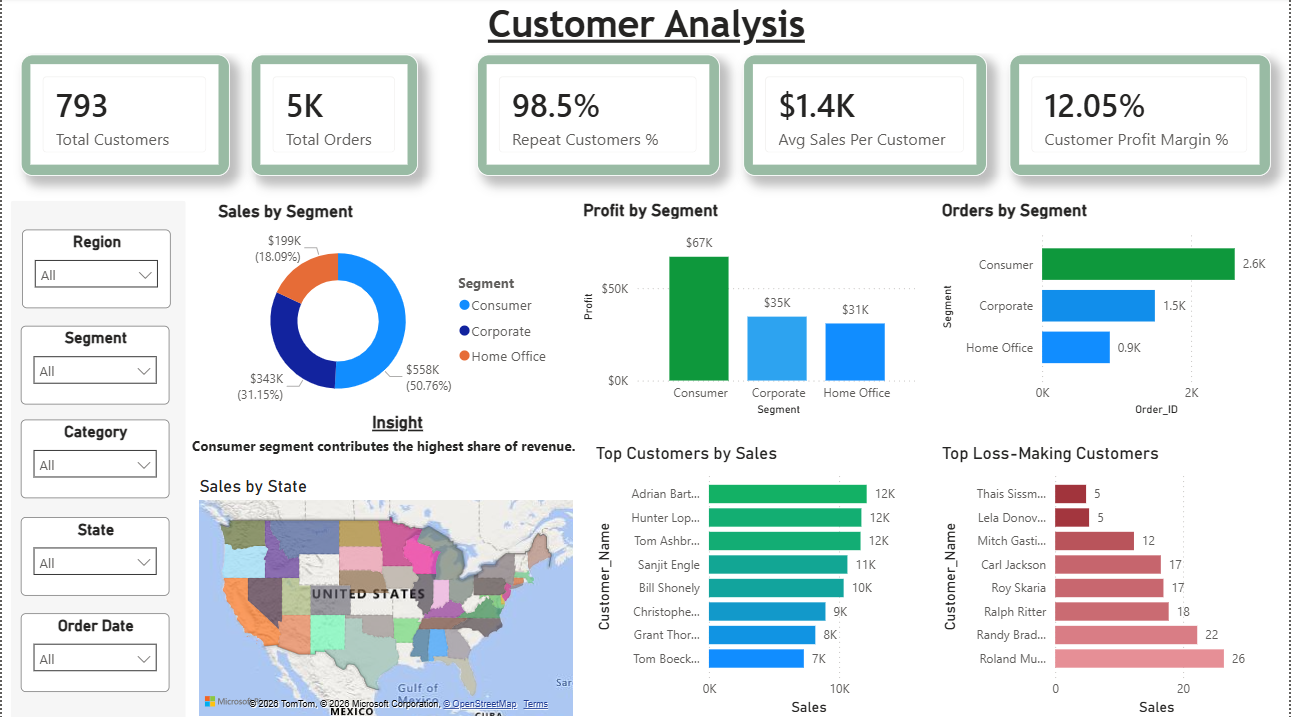

This screenshot's page, from the dashboard's own definition file:
{"tool":"powerbi","page":{"name":"Customer Analysis","canvas":[1280,720],"ordinal":2},"visuals":[{"type":"cardVisual","title":"Total Products Sold","fields":{"Data":["Superstore.Total Customers"]},"box":[18.7,57.2,207.7,120.7],"z":0},{"type":"cardVisual","title":"Total Products Sold","fields":{"Data":["Superstore.Total Orders"]},"box":[247.5,57.2,166.7,120.7],"z":1000},{"type":"cardVisual","title":"Total Products Sold","fields":{"Data":["Superstore.Repeat Customers %"]},"box":[472.7,57.2,241.3,120.7],"z":2000},{"type":"cardVisual","title":"Total Products Sold","fields":{"Data":["Superstore.Avg Sales Per Customer"]},"box":[737.7,57.2,242.6,120.7],"z":3000},{"type":"cardVisual","title":"Total Products Sold","fields":{"Data":["Superstore.Customer Profit Margin %"]},"box":[1002.6,57.2,260,120.7],"z":4000},{"type":"donutChart","title":"Sales by Segment","fields":{"Category":["Superstore.Segment"],"Y":["Sum(Superstore.Sales)"]},"box":[210.2,202.8,345.8,220.2],"z":5000},{"type":"textbox","title":"Insight","box":[184.1,413,419.2,59.7],"z":6000},{"type":"clusteredColumnChart","title":" Profit by Segment","fields":{"Category":["Superstore.Segment"],"Y":["Sum(Superstore.Profit)"]},"box":[573.5,201.5,344.6,220.2],"z":7000},{"type":"clusteredBarChart","title":" Orders by Segment","fields":{"Category":["Superstore.Segment"],"Y":["CountNonNull(Superstore.Order_ID)"]},"box":[930.5,201.5,344.6,220.2],"z":8000},{"type":"clusteredBarChart","title":"Top Loss-Making Customers","fields":{"Category":["Superstore.Customer_Name"],"Y":["Sum(Superstore.Sales)"]},"box":[930.5,444.1,332.1,276.2],"z":10000},{"type":"clusteredBarChart","title":"Top Customers by Sales","fields":{"Category":["Superstore.Customer_Name"],"Y":["Sum(Superstore.Sales)"]},"box":[585.9,444.1,332.1,276.2],"z":11000},{"type":"filledMap","title":"Sales by State","fields":{"Category":["Superstore.State"],"Series":["Superstore.Sales"]},"box":[191.6,476.4,381.9,243.8],"z":12000},{"type":"shape","box":[8.7,202.8,174.2,517.5],"z":13000},{"type":"slicer","title":"Region","fields":{"Values":["Superstore.Region"]},"box":[19.7,231.4,148,78.4],"z":14000},{"type":"slicer","title":"Segment","fields":{"Values":["Superstore.Segment"]},"box":[18.4,327.2,148,78.4],"z":15000},{"type":"slicer","title":"Category","fields":{"Values":["Superstore.Category"]},"box":[18.4,420.5,148,78.4],"z":16000},{"type":"slicer","title":"State","fields":{"Values":["Superstore.State"]},"box":[18.4,517.5,148,78.4],"z":17000},{"type":"slicer","title":"Order Date","fields":{"Values":["Superstore.Order Date Year"]},"box":[18.4,613.3,148,78.4],"z":18000},{"type":"textbox","box":[19.9,0,1242.7,56],"z":18001}]}

Visuals, with their boxes in screenshot pixels (x1, y1, x2, y2), scaled from the page's 1280x720 canvas onto the 1291x717 screenshot:
"Total Products Sold" cardVisual: [left=19, top=57, right=228, bottom=177]
"Total Products Sold" cardVisual: [left=250, top=57, right=418, bottom=177]
"Total Products Sold" cardVisual: [left=477, top=57, right=720, bottom=177]
"Total Products Sold" cardVisual: [left=744, top=57, right=989, bottom=177]
"Total Products Sold" cardVisual: [left=1011, top=57, right=1273, bottom=177]
"Sales by Segment" donutChart: [left=212, top=202, right=561, bottom=421]
"Insight" textbox: [left=186, top=411, right=608, bottom=471]
" Profit by Segment" clusteredColumnChart: [left=578, top=201, right=926, bottom=420]
" Orders by Segment" clusteredBarChart: [left=938, top=201, right=1286, bottom=420]
"Top Loss-Making Customers" clusteredBarChart: [left=938, top=442, right=1273, bottom=716]
"Top Customers by Sales" clusteredBarChart: [left=591, top=442, right=926, bottom=716]
"Sales by State" filledMap: [left=193, top=474, right=578, bottom=716]
shape: [left=9, top=202, right=184, bottom=716]
"Region" slicer: [left=20, top=230, right=169, bottom=309]
"Segment" slicer: [left=19, top=326, right=168, bottom=404]
"Category" slicer: [left=19, top=419, right=168, bottom=497]
"State" slicer: [left=19, top=515, right=168, bottom=593]
"Order Date" slicer: [left=19, top=611, right=168, bottom=689]
textbox: [left=20, top=0, right=1273, bottom=56]
